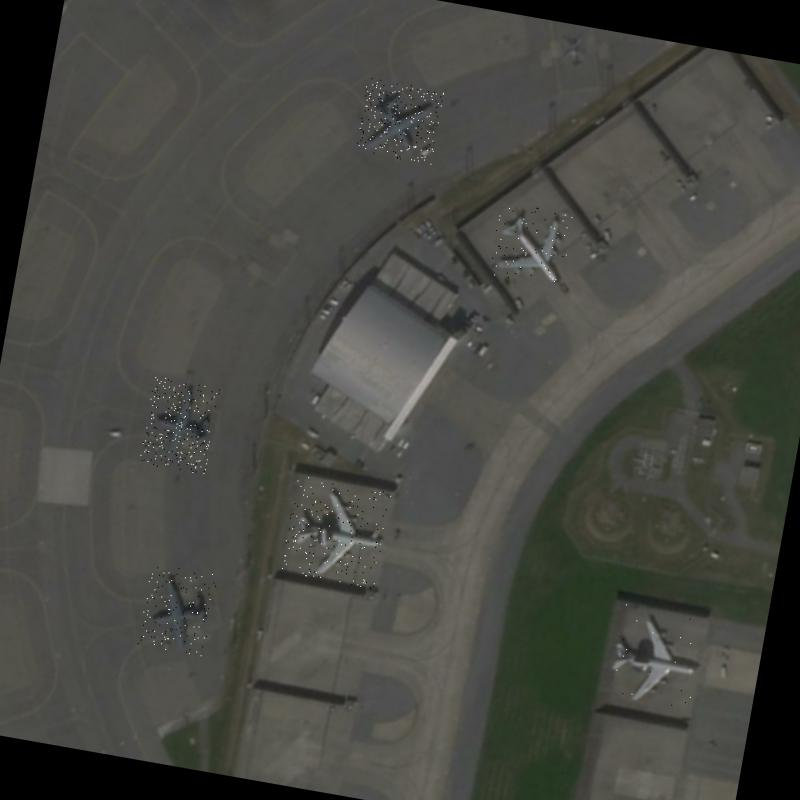A11: (487, 202, 574, 288)
A2: (139, 376, 220, 475), (354, 77, 444, 164), (138, 564, 217, 656)
A7: (280, 476, 393, 590), (599, 603, 712, 715)
